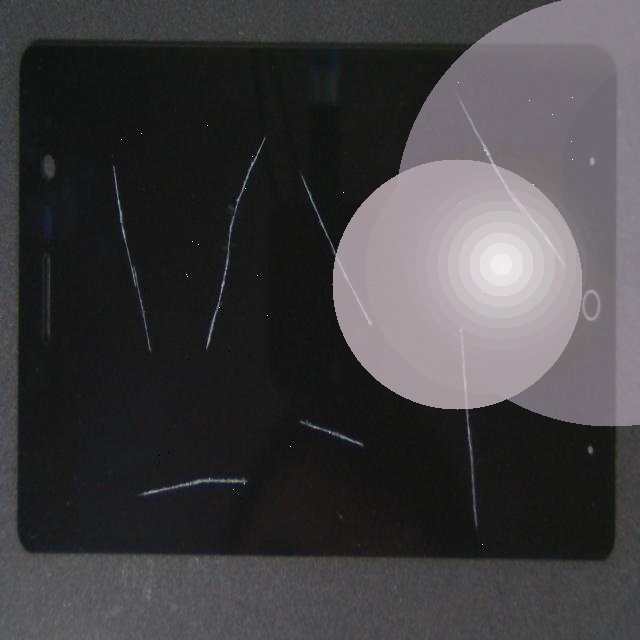scratch: (225, 69, 640, 587), (114, 15, 483, 388), (223, 233, 520, 636), (26, 254, 294, 640), (83, 169, 289, 539), (224, 57, 640, 172), (49, 0, 162, 284)
